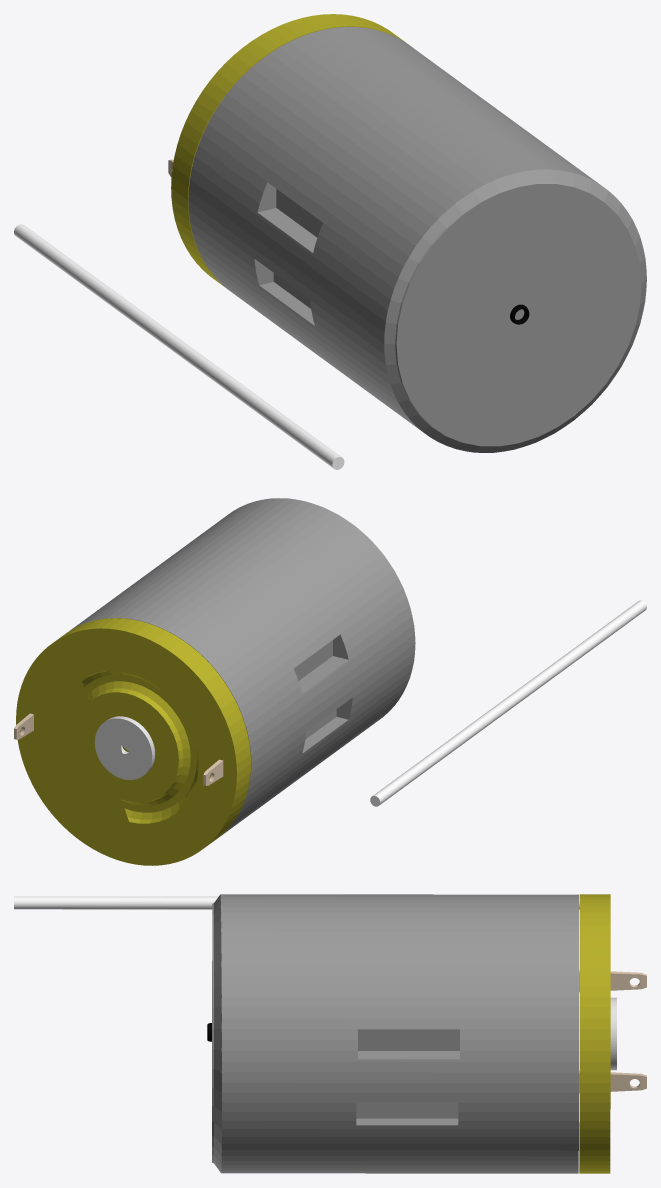
Rendered from DC_Motor.fbx.
3 views of the same model, one above another, from view 1: azimuth 30°, elevation 25°; view 2: azimuth 150°, elevation 25°; view 3: azimuth 270°, elevation 25° (orthographic). The views are drawn at different scales.
Visible parts, largest first — view 1: Cylinder, Cylinder.001, Cylinder.002; view 2: Cylinder, Cylinder.001, Cylinder.002, Cylinder.003; view 3: Cylinder, Cylinder.001, Cylinder.002, Cube, Cube.001, Cylinder.003.
Boxes of the visible parts, left/top/right/bottom form: Cylinder: left=188, top=26, right=646, bottom=452; Cylinder.001: left=171, top=14, right=408, bottom=286; Cylinder.002: left=14, top=224, right=344, bottom=469; Cylinder: left=70, top=498, right=415, bottom=836; Cylinder.001: left=16, top=618, right=250, bottom=865; Cylinder.002: left=370, top=600, right=646, bottom=806; Cylinder.003: left=94, top=716, right=155, bottom=779; Cylinder: left=212, top=894, right=578, bottom=1173; Cylinder.001: left=579, top=894, right=610, bottom=1173; Cylinder.002: left=14, top=896, right=579, bottom=909; Cube: left=579, top=1070, right=646, bottom=1093; Cube.001: left=579, top=969, right=646, bottom=992; Cylinder.003: left=610, top=997, right=616, bottom=1070.
Bounding box in the file's own units: 324 × 200 × 453.
